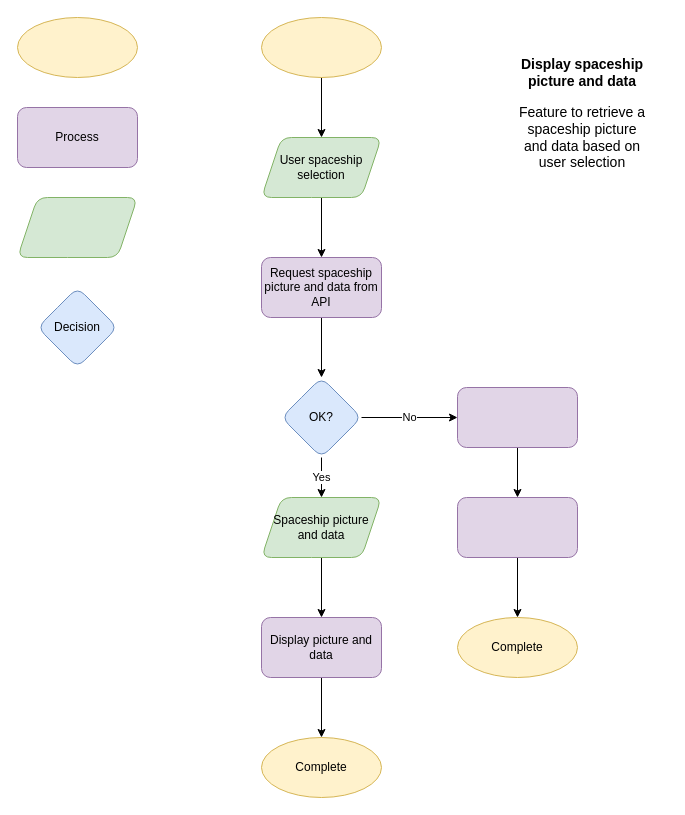
The diagram is 685 pixels wide and 815 high, and some of its shapes have lost their labels. Here are the shapes that lost their labels. From the top down, the centre of each, then its label:
At (x=77, y=47): "Start / Complete".
At (x=321, y=47): "Start".
At (x=77, y=227): "Data".
At (x=517, y=417): "Display error".
At (x=517, y=527): "Reload spaceship list".
